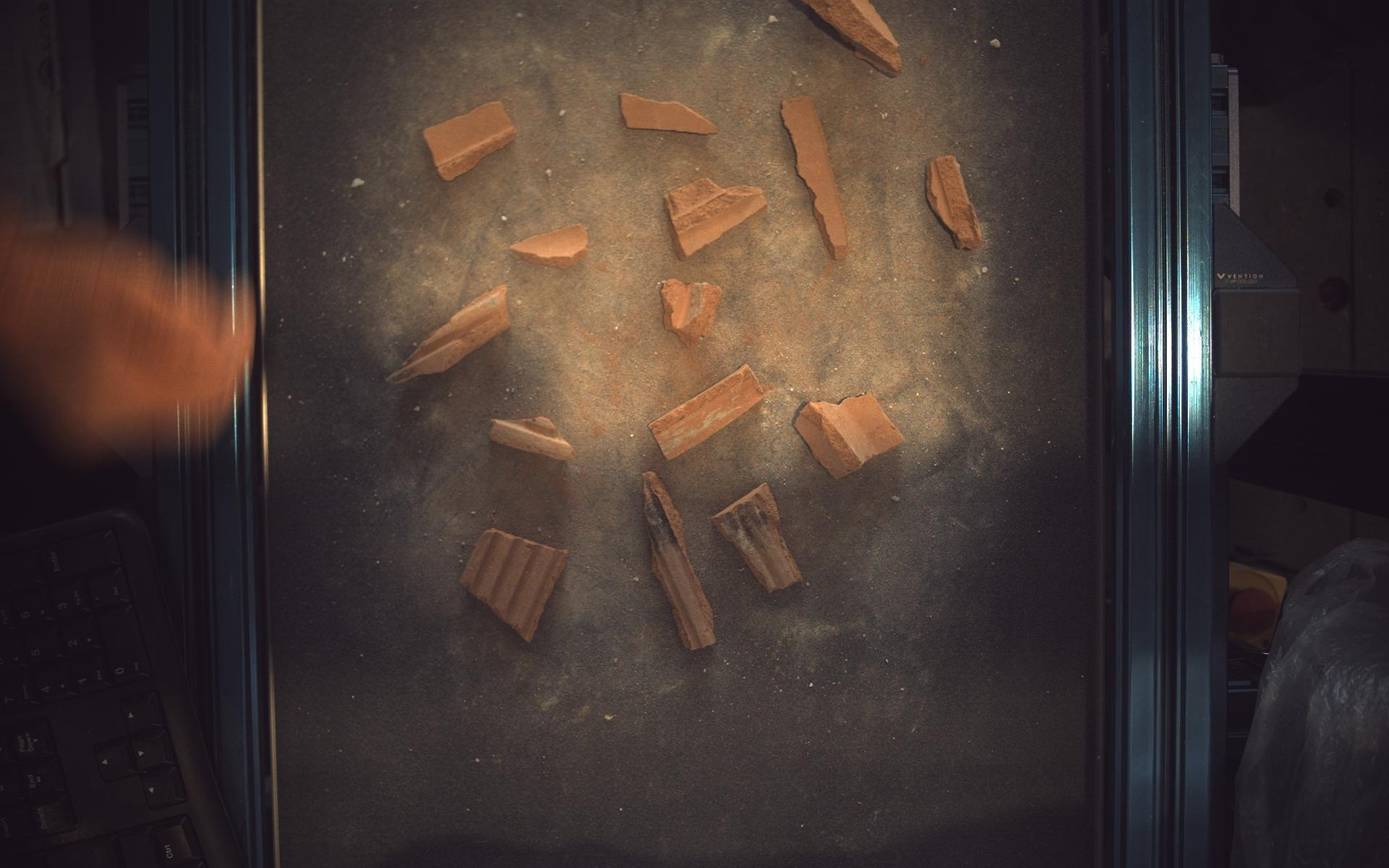brick: (642, 471, 716, 652), (460, 529, 568, 643), (387, 284, 511, 383), (650, 365, 766, 460), (783, 95, 849, 259), (713, 484, 804, 592), (797, 394, 906, 479), (665, 177, 768, 259), (423, 101, 517, 180), (804, 1, 904, 74), (929, 154, 985, 248), (660, 278, 724, 347), (490, 416, 577, 462), (621, 92, 718, 133), (511, 224, 587, 268)
